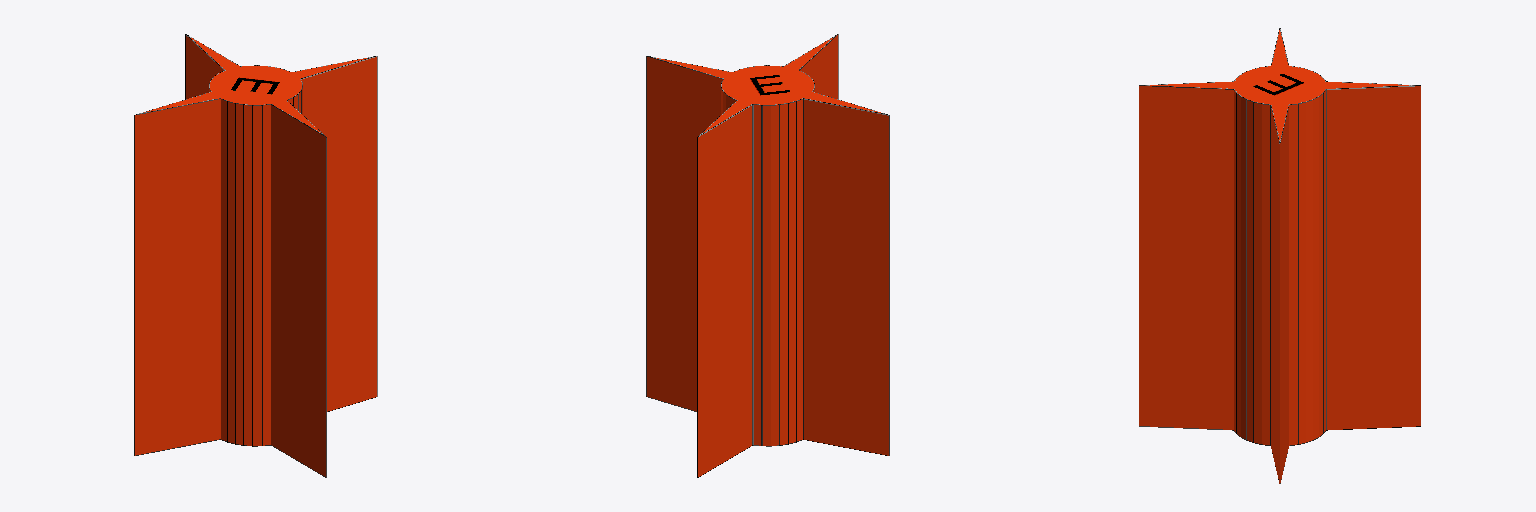
The picture shows the model from 3 angles: view 1: azimuth 30°, elevation 25°; view 2: azimuth 150°, elevation 25°; view 3: azimuth 270°, elevation 25°; orthographic projection.
Parts seen in each view (by area): view 1: 円柱; view 2: 円柱; view 3: 円柱.
Part boxes in pixels (x1,y1,x2,y2): 円柱: (134, 34, 377, 477); 円柱: (646, 34, 889, 477); 円柱: (1139, 28, 1420, 483).
Bounding box in the file's own units: 5.98 × 8 × 6.01.
1 materials, 1 textured.